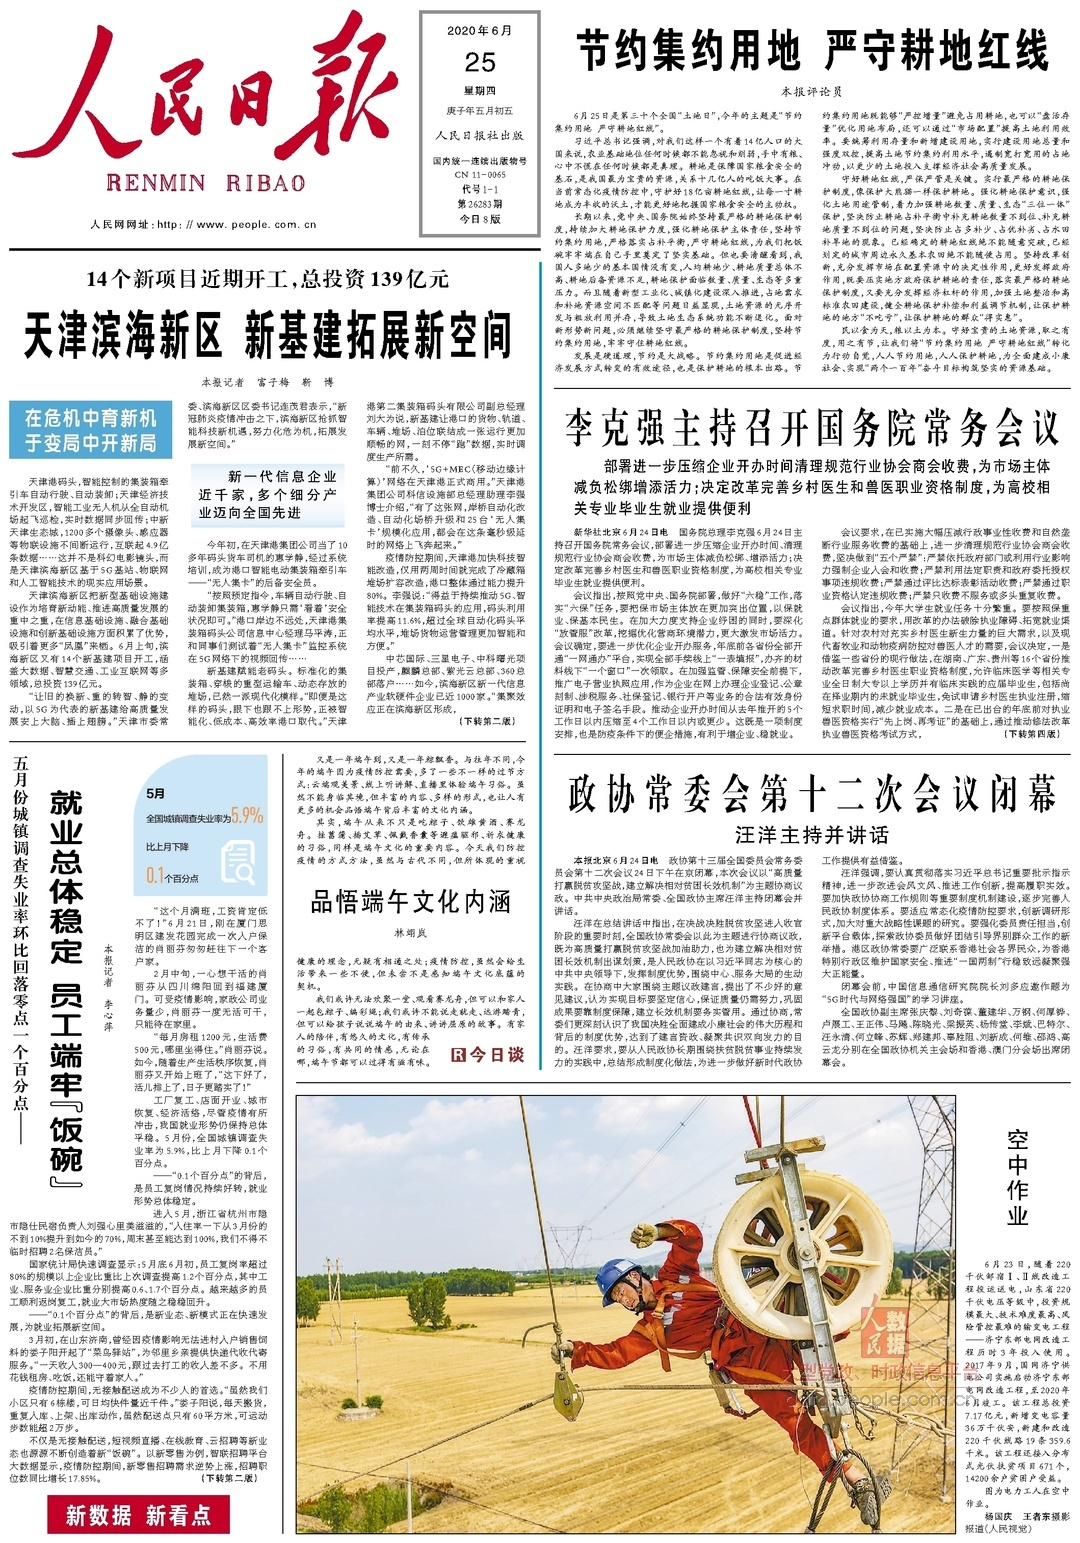pic: (290, 1089, 962, 1538)
